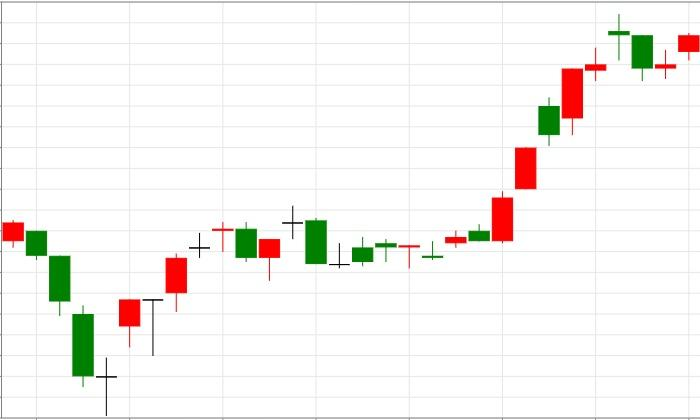evening_star_fall: (491, 13, 653, 243)
